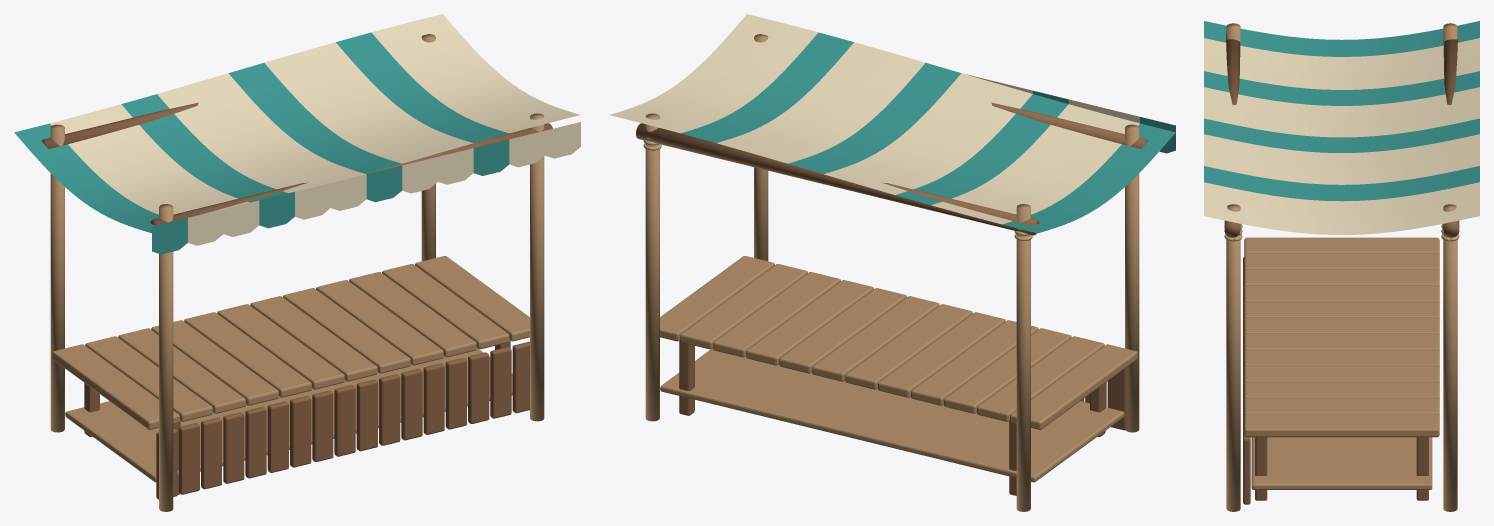
The model's file is market-canopy.glb.
The picture shows the model from 3 angles, left to right: view 1: azimuth 30°, elevation 25°; view 2: azimuth 150°, elevation 25°; view 3: azimuth 270°, elevation 25°; orthographic projection.
Parts seen in each view (by area): view 1: market-canopy__woodlight, market-canopy__linen, market-canopy__wood, market-canopy__teal; view 2: market-canopy__woodlight, market-canopy__linen, market-canopy__teal, market-canopy__wood; view 3: market-canopy__woodlight, market-canopy__linen, market-canopy__teal, market-canopy__wood.
Part boxes in pixels (x1,y1,x2,y2): market-canopy__woodlight: [50, 34, 544, 511]; market-canopy__linen: [50, 14, 580, 245]; market-canopy__wood: [42, 102, 552, 499]; market-canopy__teal: [14, 32, 509, 254]; market-canopy__woodlight: [645, 34, 1139, 511]; market-canopy__linen: [610, 14, 1139, 224]; market-canopy__teal: [681, 32, 1175, 233]; market-canopy__wood: [636, 102, 1147, 495]; market-canopy__woodlight: [1226, 23, 1457, 511]; market-canopy__linen: [1204, 38, 1479, 234]; market-canopy__teal: [1204, 21, 1479, 201]; market-canopy__wood: [1224, 33, 1459, 504].
Size of the model in its own units: 5.2 by 3.56 by 2.9.
